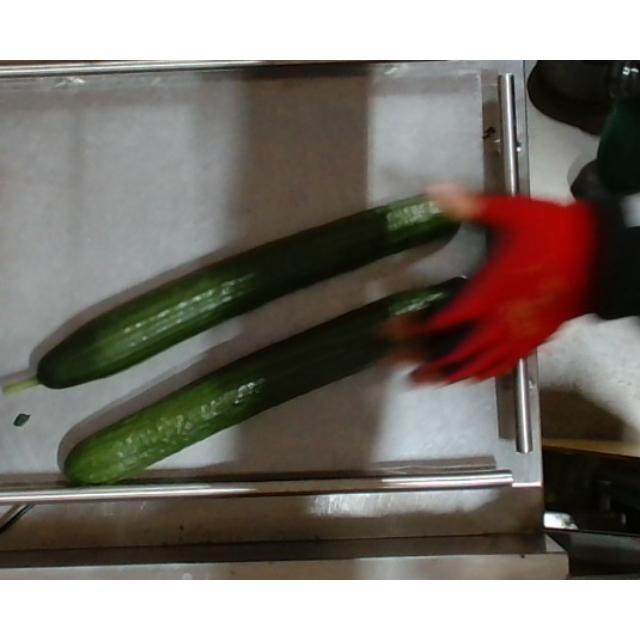cucumber: (5, 193, 461, 395), (64, 276, 474, 486)
